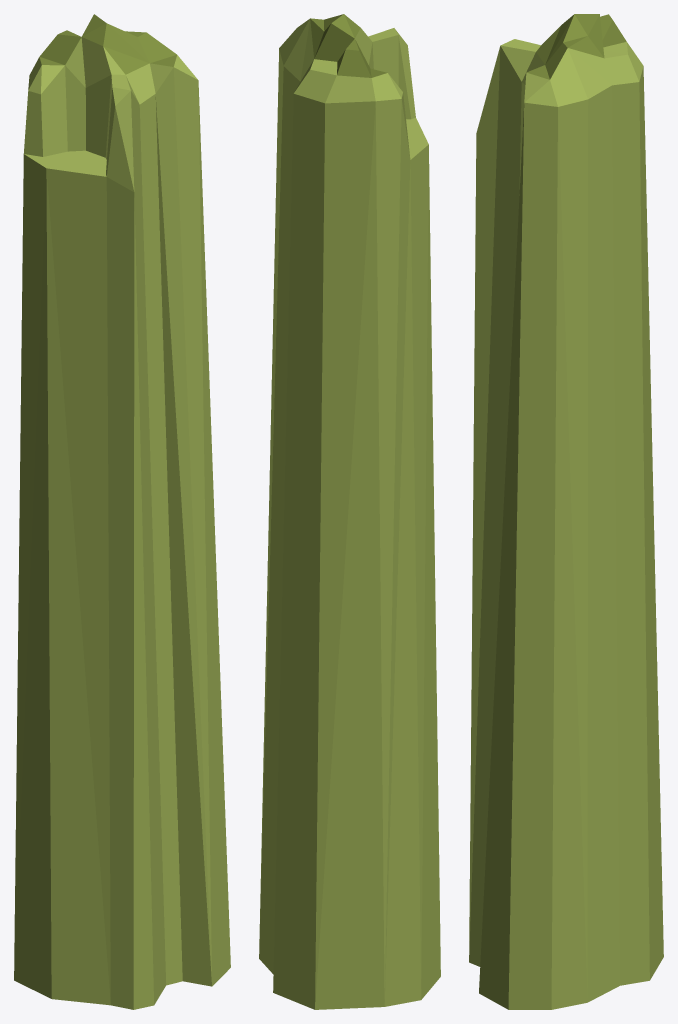
File: EA03_Nature_Bush_05a.glb
3 renders of one model, left to right at view 1: azimuth 30°, elevation 25°; view 2: azimuth 150°, elevation 25°; view 3: azimuth 270°, elevation 25°, orthographic.
Parts seen in each view (by area): view 1: EA03_Nature_Bush_05a; view 2: EA03_Nature_Bush_05a; view 3: EA03_Nature_Bush_05a.
Part boxes in pixels (x1,y1,x2,y2): EA03_Nature_Bush_05a: [14, 14, 230, 1009]; EA03_Nature_Bush_05a: [259, 14, 440, 1009]; EA03_Nature_Bush_05a: [469, 14, 663, 1009].
Size of the model in its own units: 1.16 by 5.93 by 1.1.
Materials: 1 (1 with a texture image).
